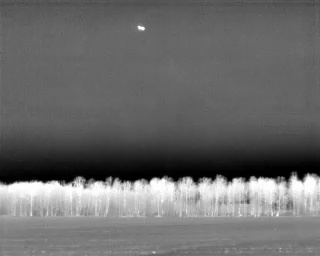DRONE: (133, 22, 149, 35)
